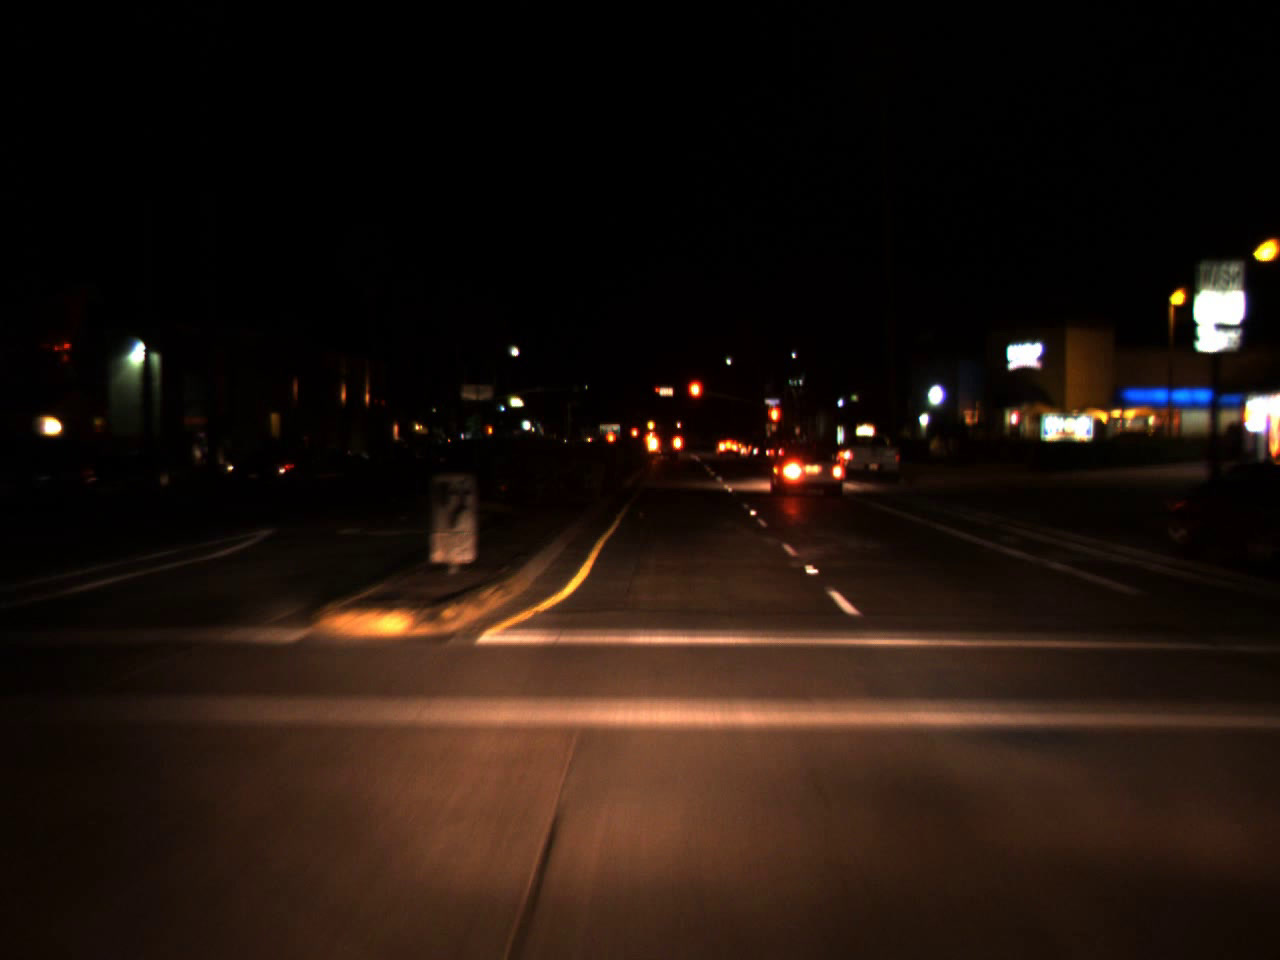stop: (685, 378, 704, 415), (768, 403, 781, 440), (655, 387, 661, 397)
